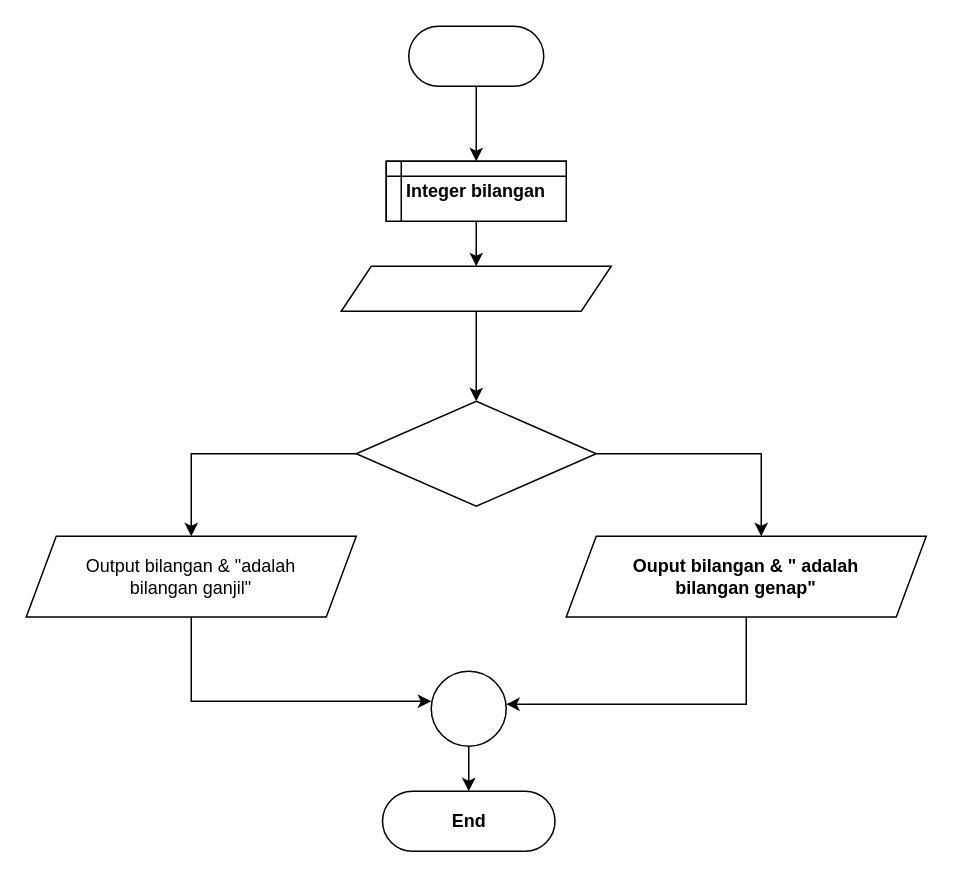
The diagram is 953 pixels wide and 878 high, and some of its shapes have lost their labels. The box of each missing label's shape, as (x1, y1, x2, y2) in pixels:
bilangan mod 2 = 0: (355, 400, 596, 506)
Input bilangan: (340, 265, 611, 311)
MAIN: (407, 25, 544, 86)
